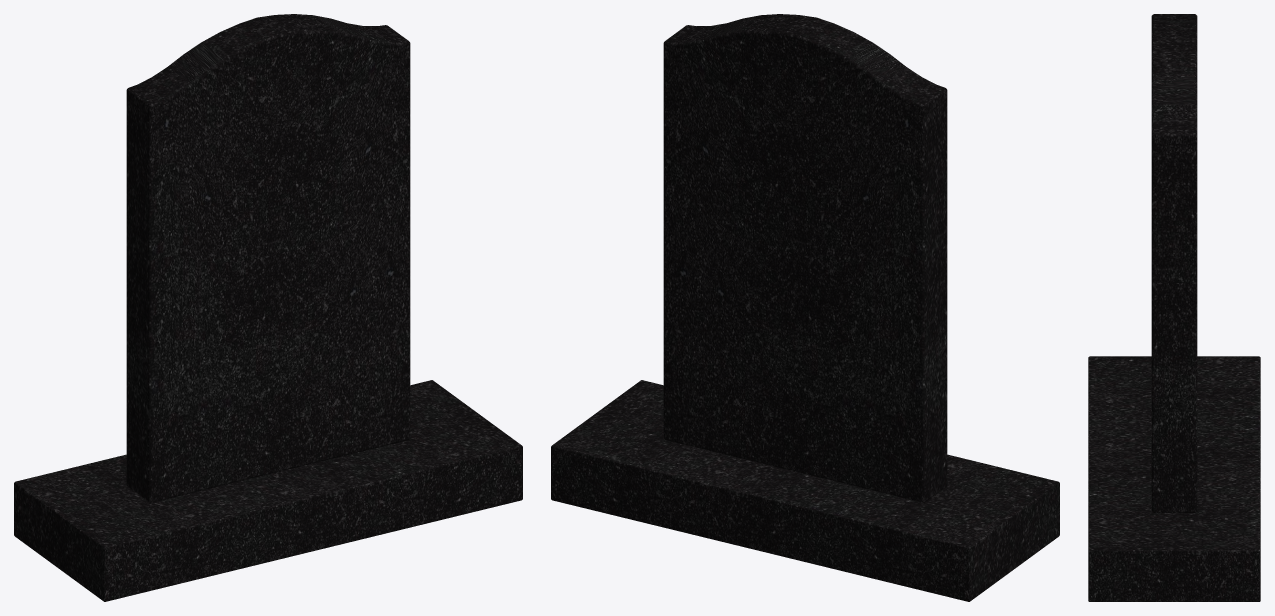
The model's file is Number 4 (Big).gltf.
3 views of the same model, side by side, from view 1: azimuth 30°, elevation 25°; view 2: azimuth 150°, elevation 25°; view 3: azimuth 270°, elevation 25° (orthographic). The views are drawn at different scales.
Visible parts, largest first — view 1: Cube.012, Cube.017; view 2: Cube.012, Cube.017; view 3: Cube.017, Cube.012.
Boxes of the visible parts, x1=… form: Cube.012: x1=126, y1=14, x2=410, y2=502; Cube.017: x1=14, y1=380, x2=522, y2=601; Cube.012: x1=663, y1=14, x2=947, y2=502; Cube.017: x1=551, y1=380, x2=1059, y2=601; Cube.017: x1=1088, y1=356, x2=1260, y2=601; Cube.012: x1=1151, y1=14, x2=1197, y2=512.
Bounding box in the file's own units: 0.8 × 0.8992 × 0.3.
Materials: 1 (1 with a texture image).
